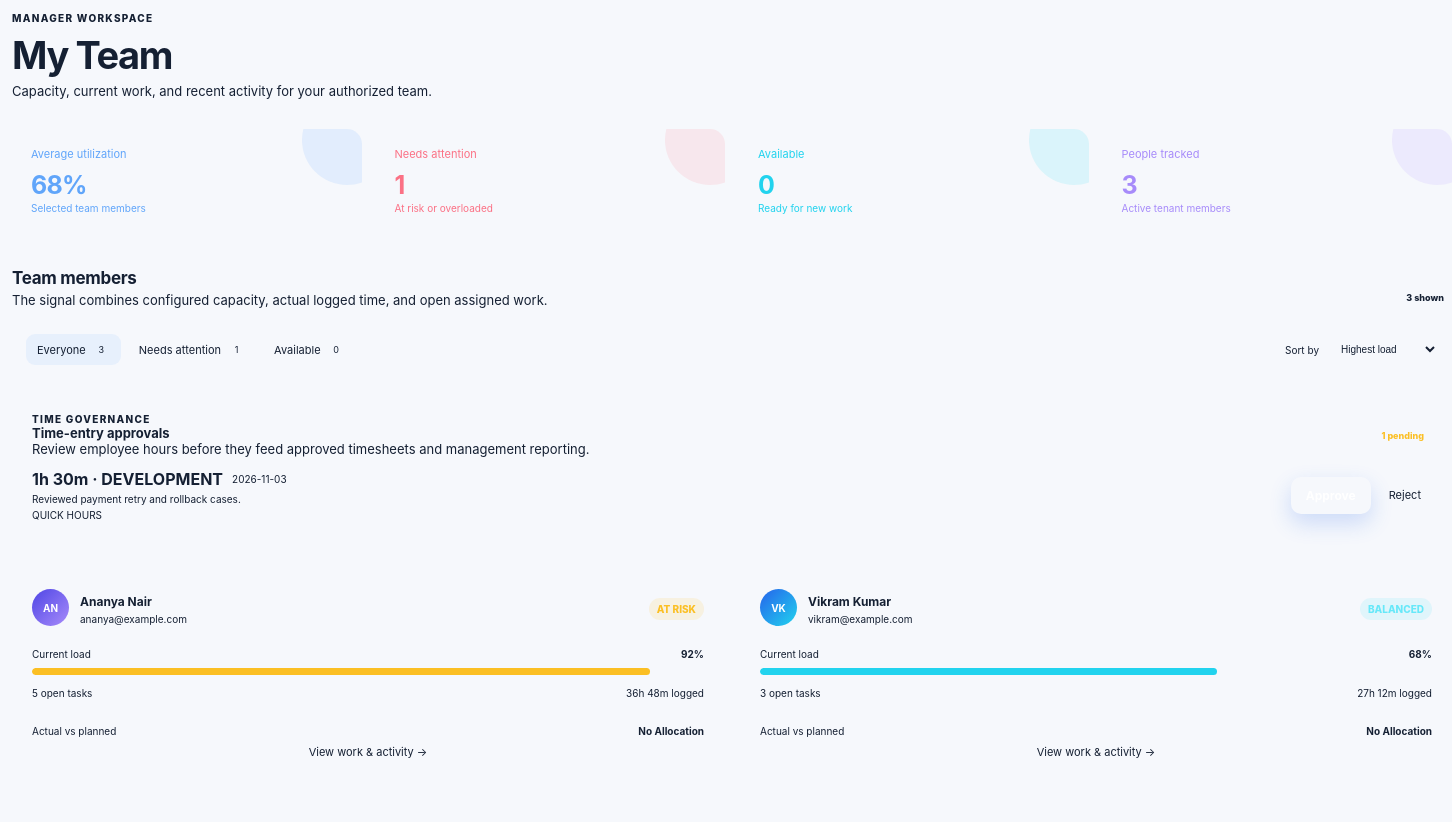
ManagerWorkloadView › filters the team to members who need attention
The image size is (1452, 822).
Click the button "Needs attention 1" at [192, 350], box [128,334,256,365]
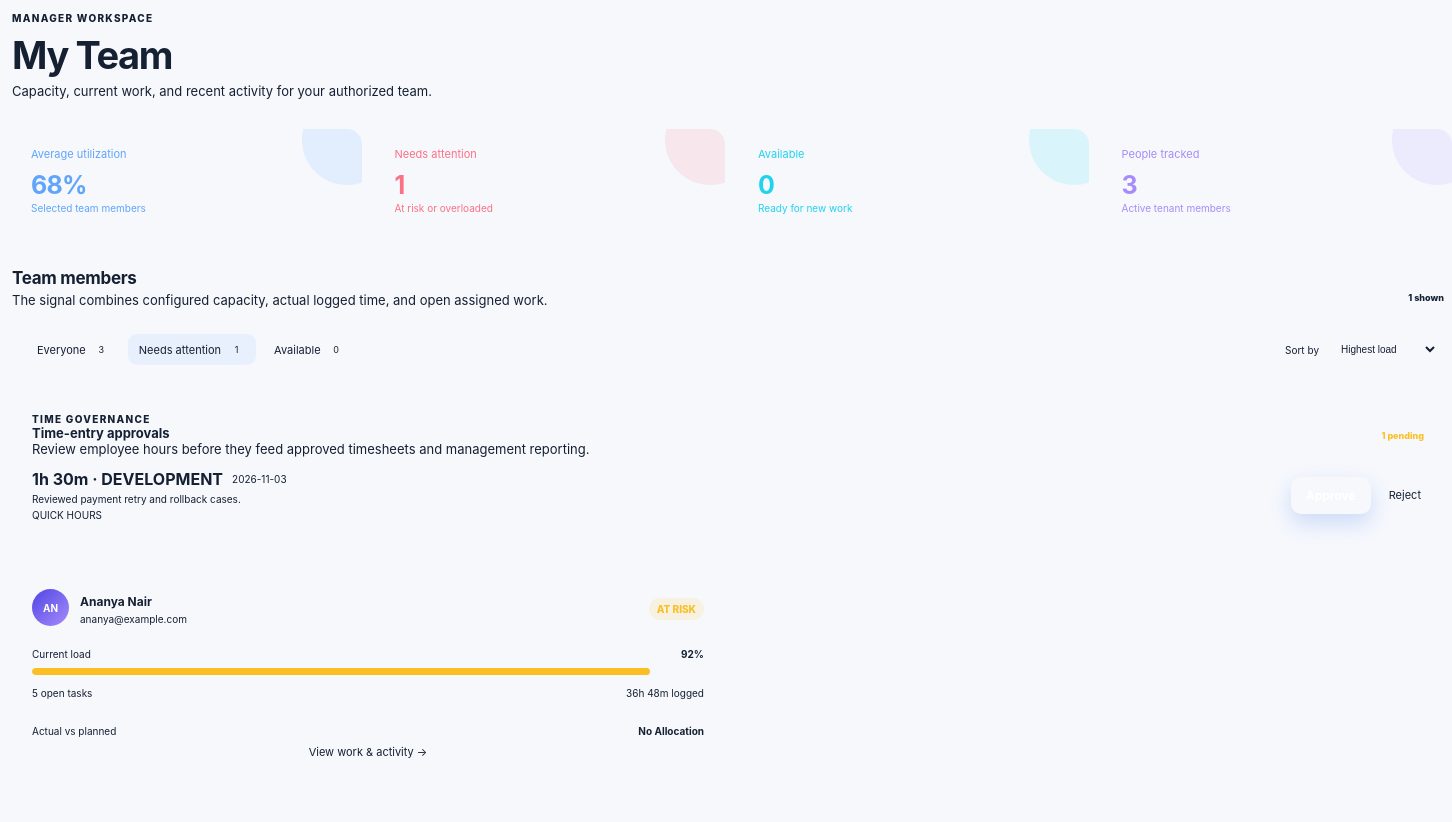
Expected: the text "Ananya Nair" is shown, [80,594,152,609]
Now the text "Vikram Kumar" is gone
